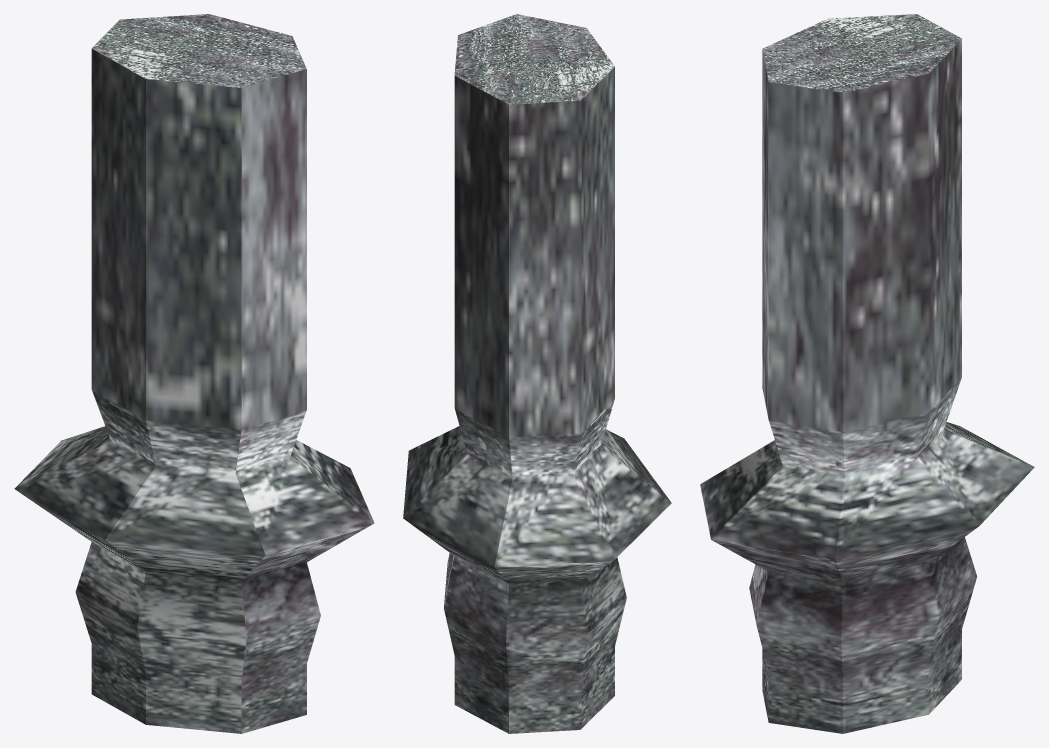
The model's file is Pillar_small.fbx.
3 renders of one model, left to right at view 1: azimuth 30°, elevation 25°; view 2: azimuth 150°, elevation 25°; view 3: azimuth 270°, elevation 25°, orthographic. The views are drawn at different scales.
Visible parts, largest first — view 1: pillarSmall; view 2: pillarSmall; view 3: pillarSmall.
Part boxes in pixels (bbox=[...]): pillarSmall: bbox=[14, 14, 374, 733]; pillarSmall: bbox=[403, 14, 671, 733]; pillarSmall: bbox=[700, 14, 1034, 733].
Size of the model in its own units: 804 by 1815 by 859.
1 material, 1 textured.
